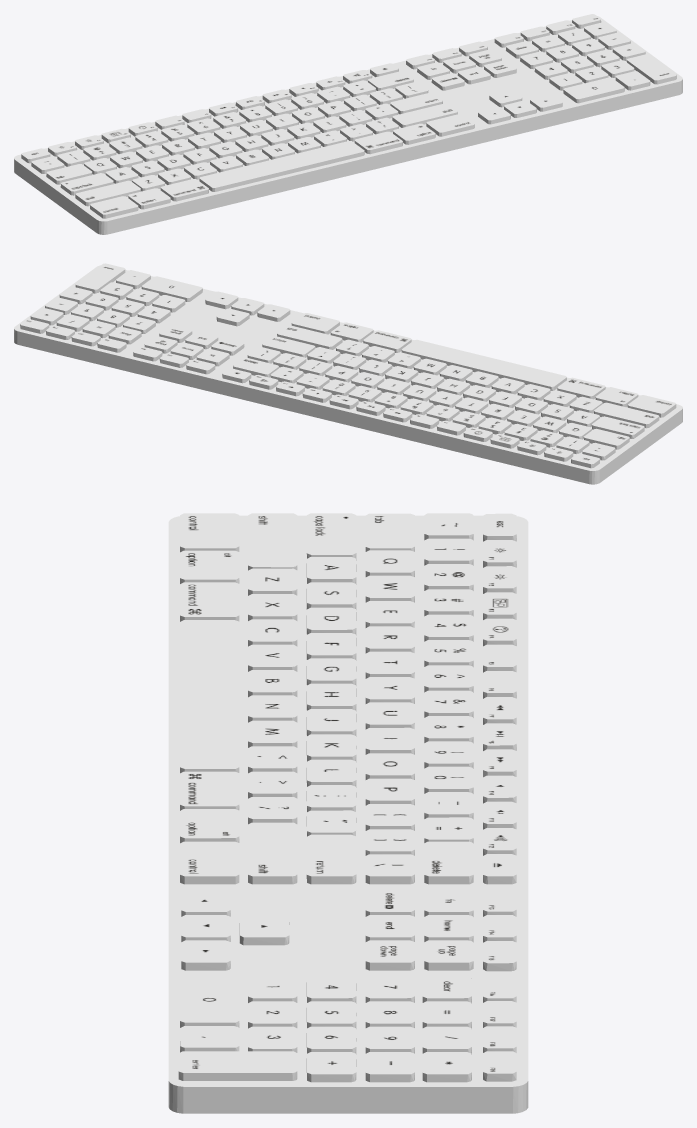
Rendered from mac_keyboard.fbx.
3 views of the same model, one above another, from view 1: azimuth 30°, elevation 25°; view 2: azimuth 150°, elevation 25°; view 3: azimuth 270°, elevation 25° (orthographic). The views are drawn at different scales.
Parts seen in each view (by area): view 1: Деталь3; view 2: Деталь3; view 3: Деталь3.
Part boxes in pixels (x1=…): Деталь3: x1=14, y1=14, x2=682, y2=234; Деталь3: x1=14, y1=263, x2=682, y2=484; Деталь3: x1=168, y1=513, x2=528, y2=1113.
Bounding box in the file's own units: 11546 × 330 × 3075.
Materials: 1 (1 with a texture image).
